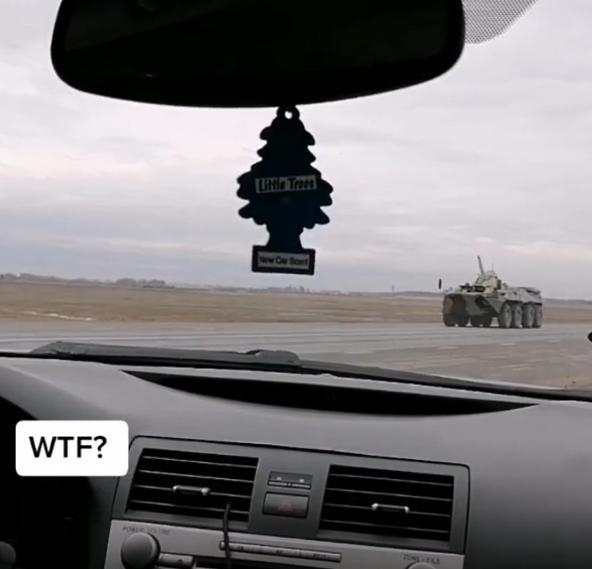tank: (437, 255, 552, 337)
